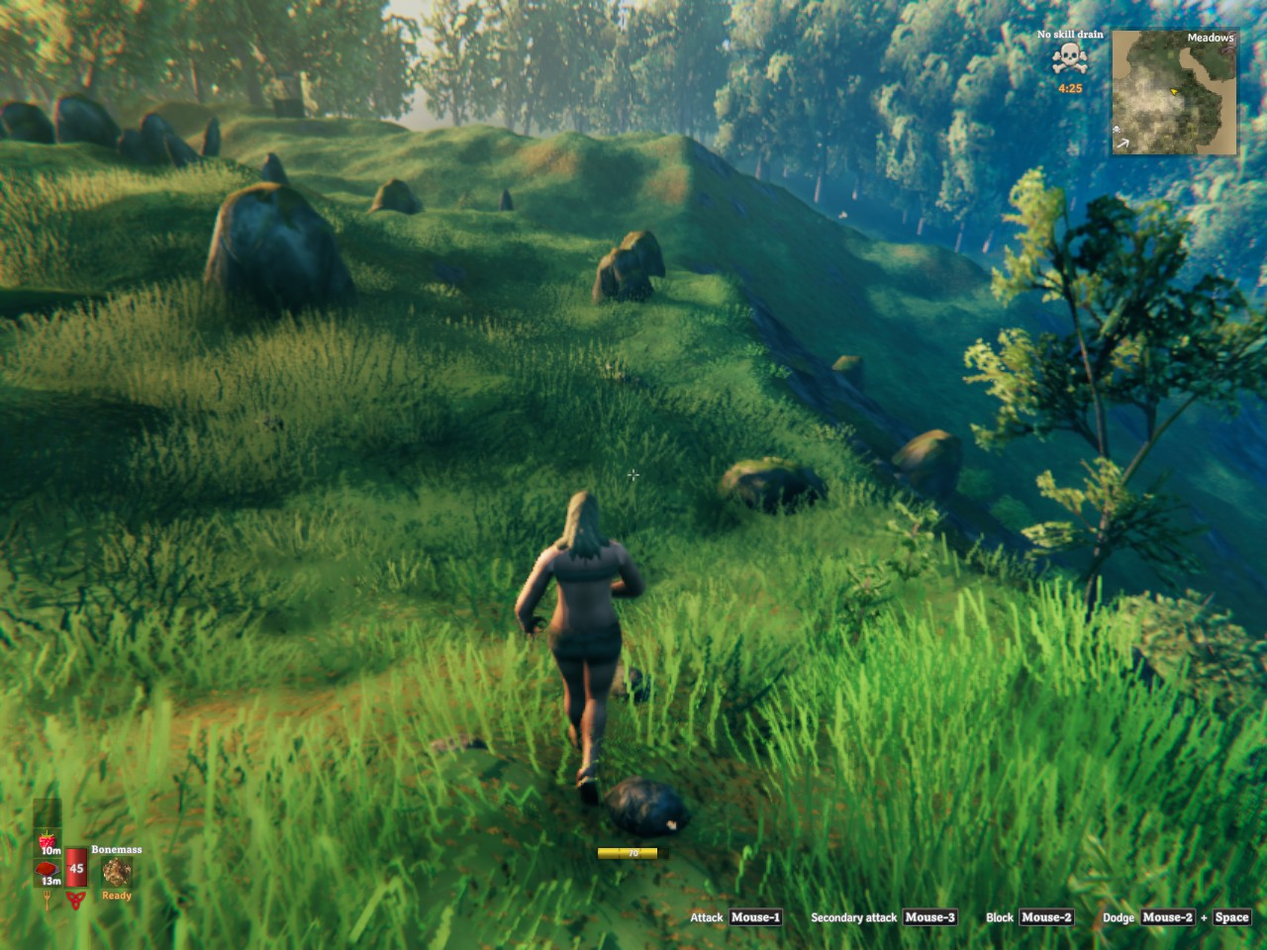Stone: (605, 776, 689, 836)
